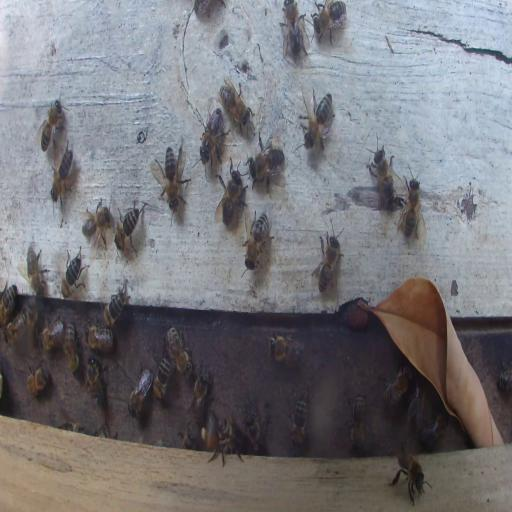nonpollenbee: (366, 131, 398, 210), (312, 220, 344, 295), (245, 135, 285, 193), (389, 448, 430, 504), (216, 160, 248, 228), (396, 168, 424, 242), (302, 89, 334, 151), (160, 144, 191, 206), (50, 140, 76, 213), (210, 416, 244, 468), (280, 1, 309, 61), (113, 203, 145, 257), (242, 210, 270, 271), (199, 108, 227, 167), (81, 198, 113, 248), (311, 1, 347, 45), (219, 78, 251, 126), (165, 325, 193, 375), (101, 282, 130, 329), (61, 246, 87, 298), (40, 98, 64, 152), (382, 366, 410, 410), (24, 245, 47, 297), (128, 365, 151, 416), (267, 332, 303, 364), (289, 389, 308, 446), (190, 369, 209, 423), (350, 394, 366, 451), (421, 415, 446, 450), (63, 322, 79, 376), (40, 314, 64, 350), (86, 358, 104, 406), (25, 364, 51, 397), (406, 384, 428, 423), (5, 308, 28, 345), (85, 324, 114, 353), (154, 354, 171, 400), (1, 284, 17, 326), (245, 412, 261, 451), (498, 361, 511, 395), (180, 428, 194, 448)
pollenbee: (201, 410, 218, 454)
